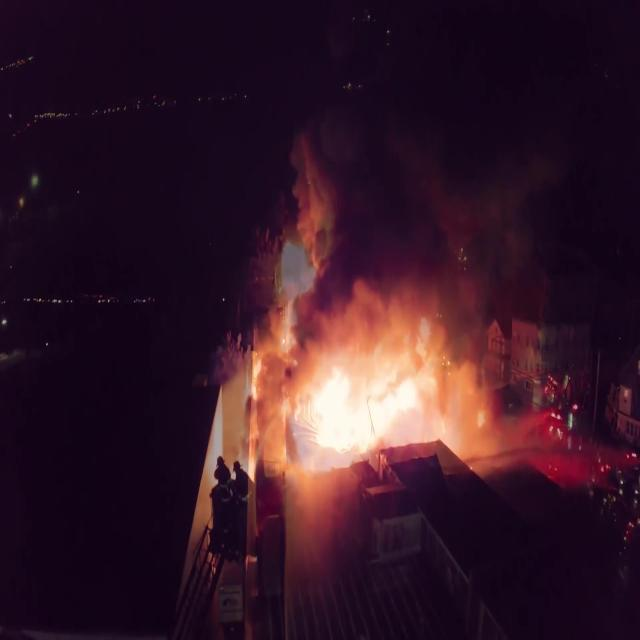Fire: (258, 321, 470, 461)
Smoke: (303, 23, 572, 300)
